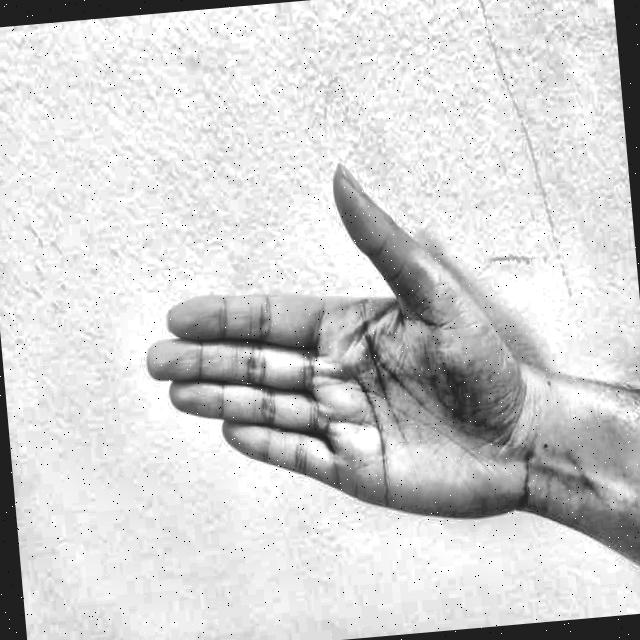Aa: (102, 126, 533, 576)
